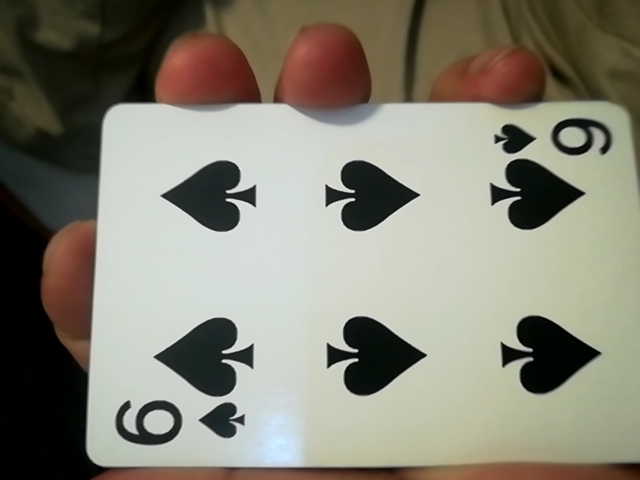ht 6: (57, 99, 633, 480)
